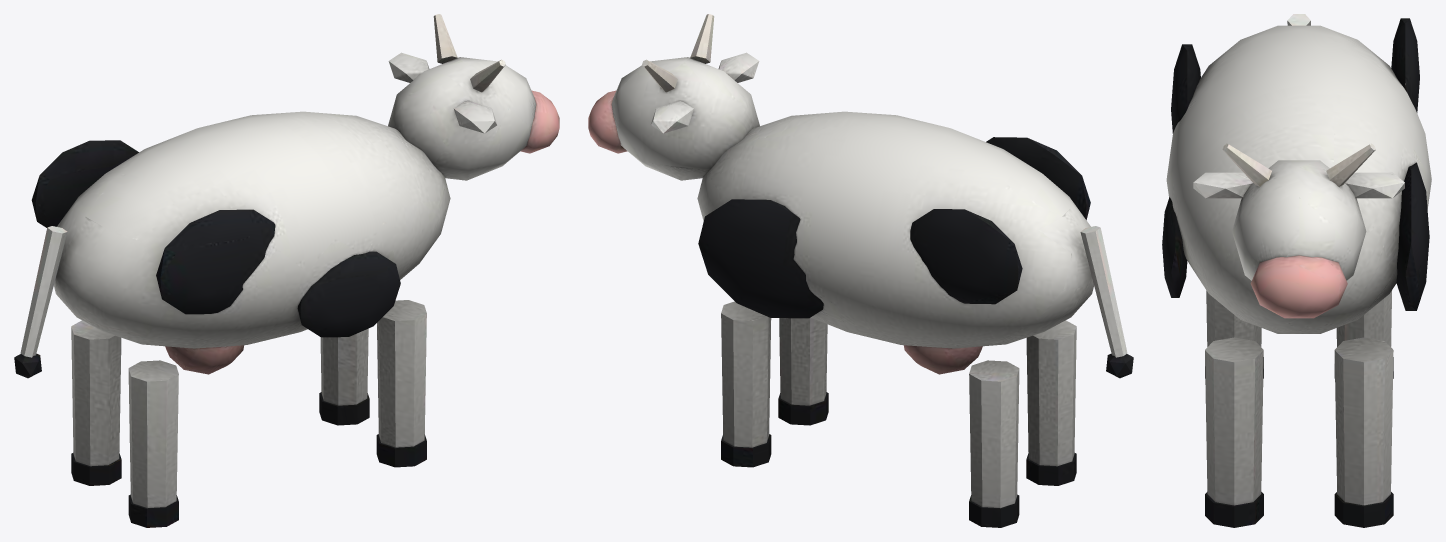
File: vaca.glb
3 renders of one model, left to right at view 1: azimuth 30°, elevation 25°; view 2: azimuth 150°, elevation 25°; view 3: azimuth 270°, elevation 25°, orthographic. The views are drawn at different scales.
Parts seen in each view (by area): view 1: vaca; view 2: vaca; view 3: vaca.
Boxes of the visible parts, <box> form: vaca: <box>14,14,559,527</box>; vaca: <box>588,14,1133,527</box>; vaca: <box>1162,14,1431,527</box>.
Size of the model in its own units: 2.38 by 1.59 by 0.915.
Materials: 1 (1 with a texture image).
